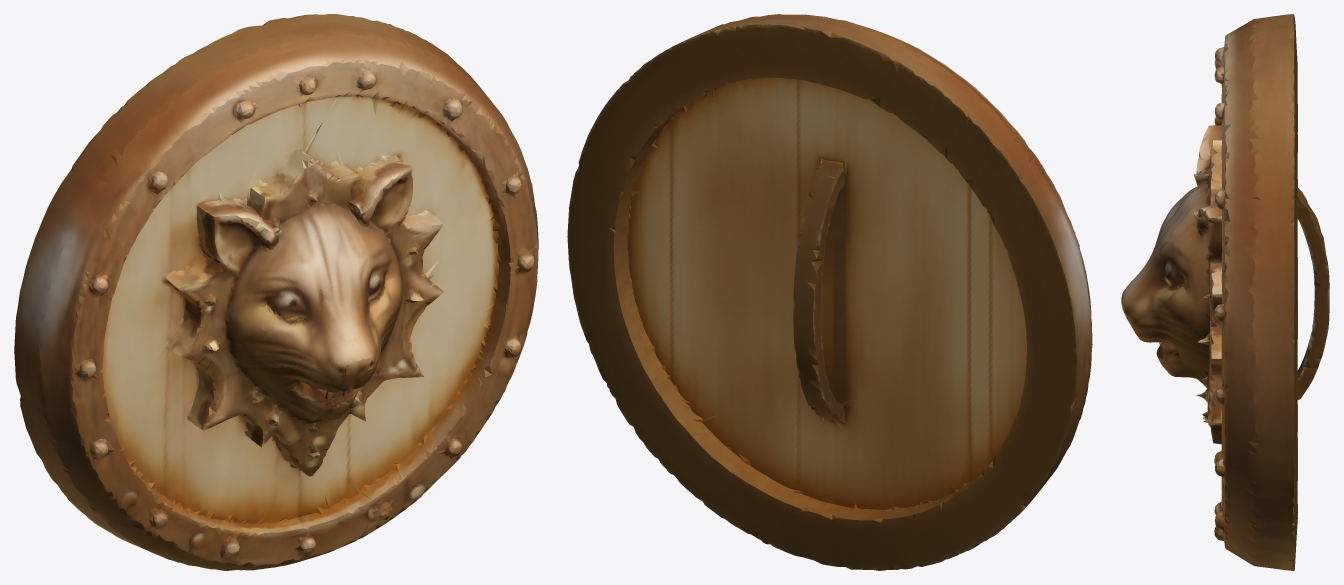
The picture shows the model from 3 angles, left to right: view 1: azimuth 30°, elevation 25°; view 2: azimuth 150°, elevation 25°; view 3: azimuth 270°, elevation 25°; orthographic projection. The views are drawn at different scales.
Visible parts, largest first — view 1: ButtonShield; view 2: ButtonShield; view 3: ButtonShield.
Part boxes in pixels (x1=…): ButtonShield: x1=14, y1=14, x2=538, y2=570; ButtonShield: x1=567, y1=14, x2=1092, y2=570; ButtonShield: x1=1121, y1=14, x2=1329, y2=570.
Size of the model in its own units: 1.9 by 1.9 by 0.7098.
Materials: 1 (1 with a texture image).
